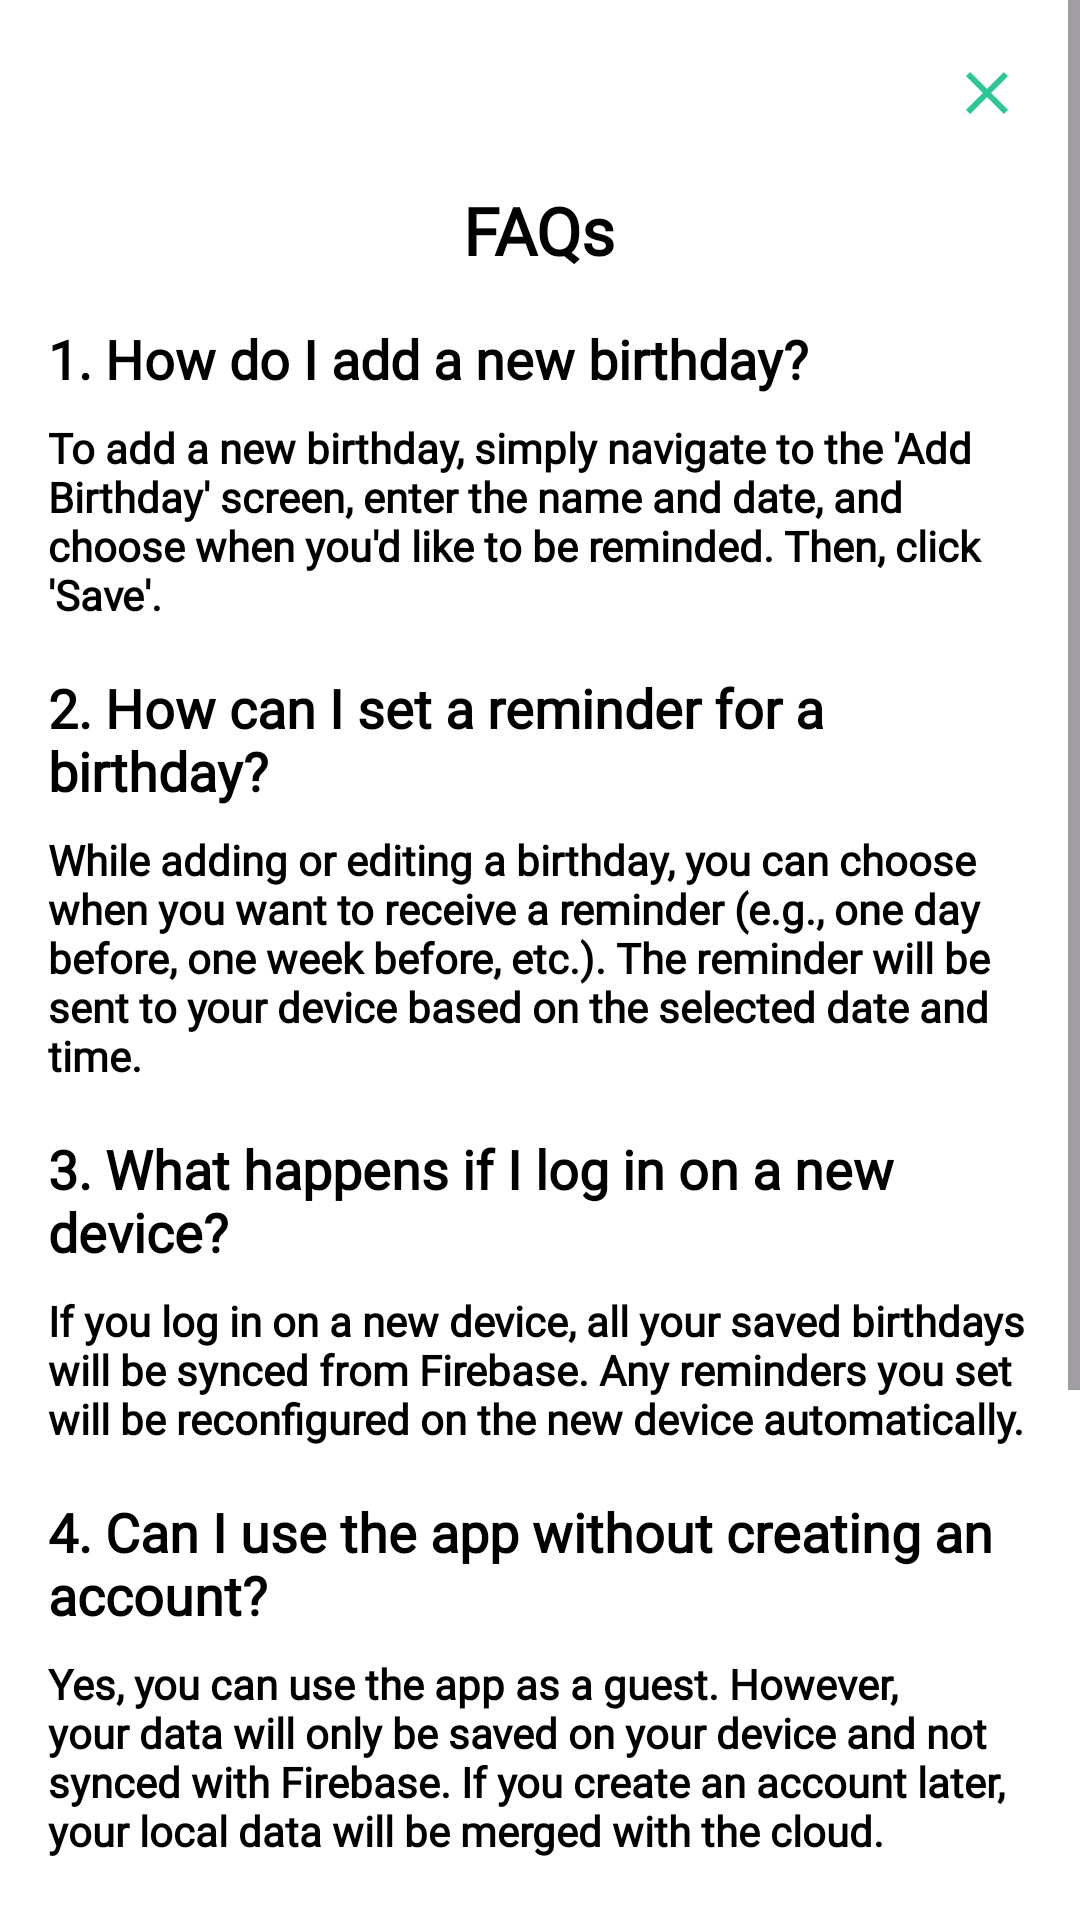

Icons on this 1080×1920 Android screen, each with its box as bbox=[x1, y1, x2, y2]:
close: bbox=[966, 72, 1008, 114]
